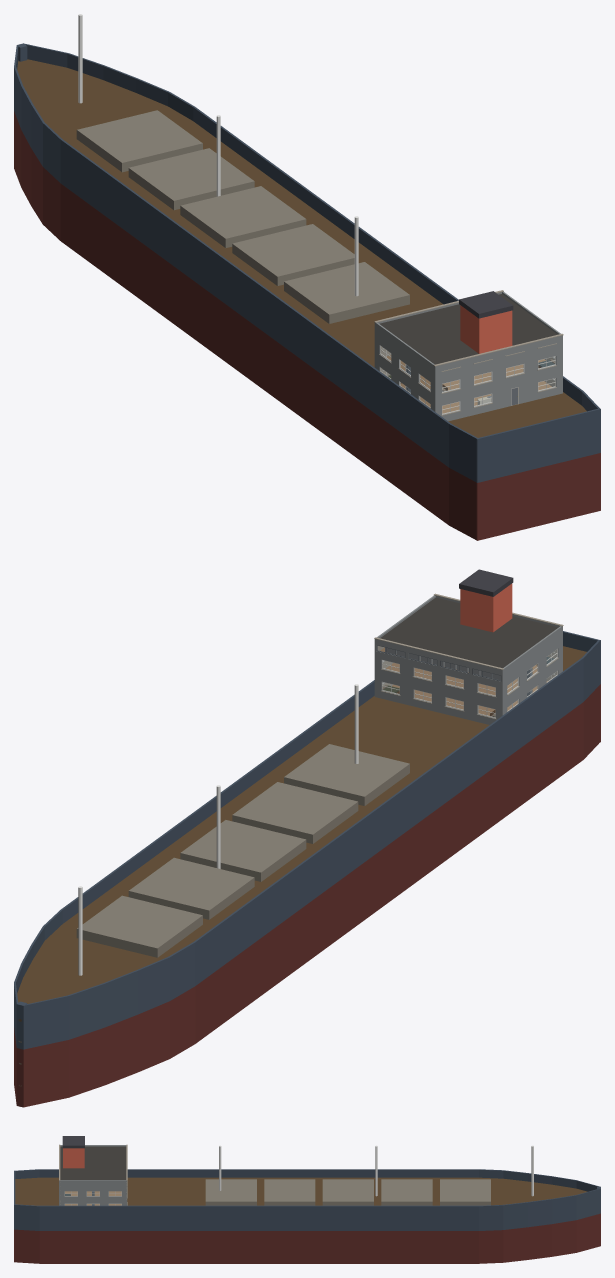
File: freighter.glb
3 renders of one model, top to bottom at view 1: azimuth 30°, elevation 25°; view 2: azimuth 150°, elevation 25°; view 3: azimuth 270°, elevation 25°, orthographic. The views are drawn at different scales.
Parts seen in each view (by area): view 1: LOD0; view 2: LOD0, FURN; view 3: LOD0.
Boxes of the visible parts, x1,y1,x2,y2 form: LOD0: (14, 14, 600, 540); LOD0: (14, 569, 600, 1107); FURN: (382, 647, 554, 717); LOD0: (14, 1136, 600, 1263).
Size of what is drawn, in the model's own units: 18 by 23.6 by 120.
